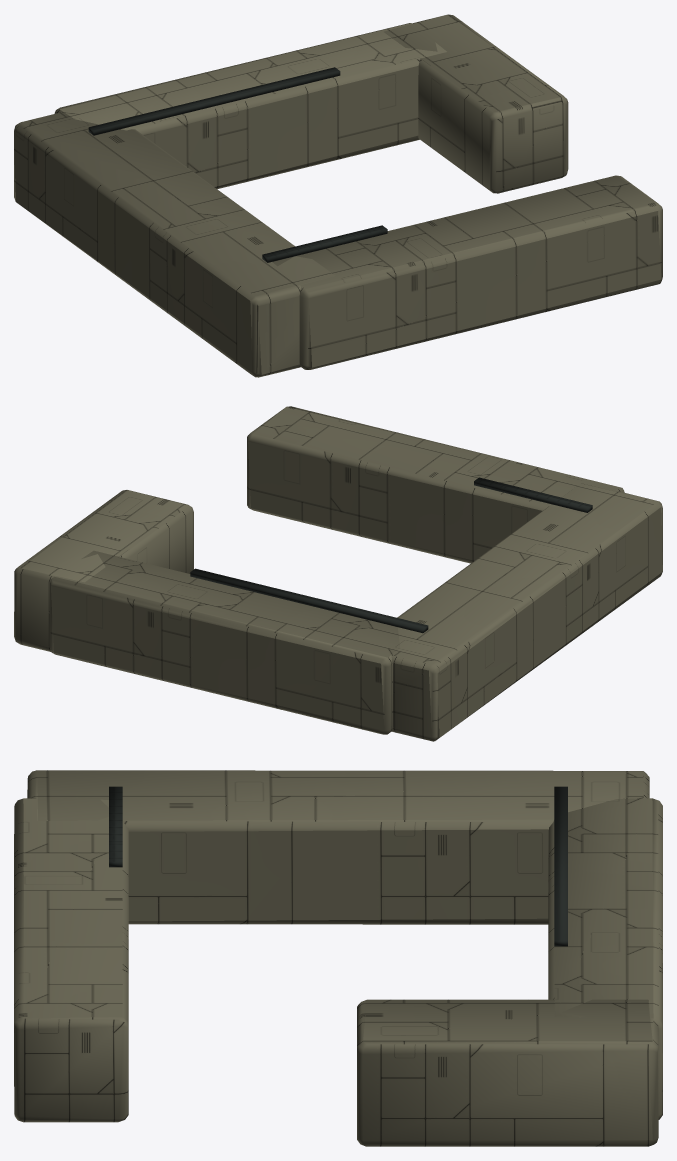
Rendered from towline_debris_lod1.glb.
The picture shows the model from 3 angles, top to bottom: view 1: azimuth 30°, elevation 25°; view 2: azimuth 150°, elevation 25°; view 3: azimuth 270°, elevation 25°; orthographic projection. The views are drawn at different scales.
Visible parts, largest first — view 1: LOD1_Hull, LOD1_MechanicalDark; view 2: LOD1_Hull, LOD1_MechanicalDark; view 3: LOD1_Hull, LOD1_MechanicalDark.
Boxes of the visible parts, x1,y1,x2,y2 form: LOD1_Hull: (14,14,662,377); LOD1_MechanicalDark: (88,67,387,262); LOD1_Hull: (14,406,662,741); LOD1_MechanicalDark: (190,477,592,633); LOD1_Hull: (14,770,662,1146); LOD1_MechanicalDark: (109,786,567,946).
Size of what is drawn, in the model's own units: 7.39 by 1.4 by 7.29.
Materials: 2 (2 with a texture image).
